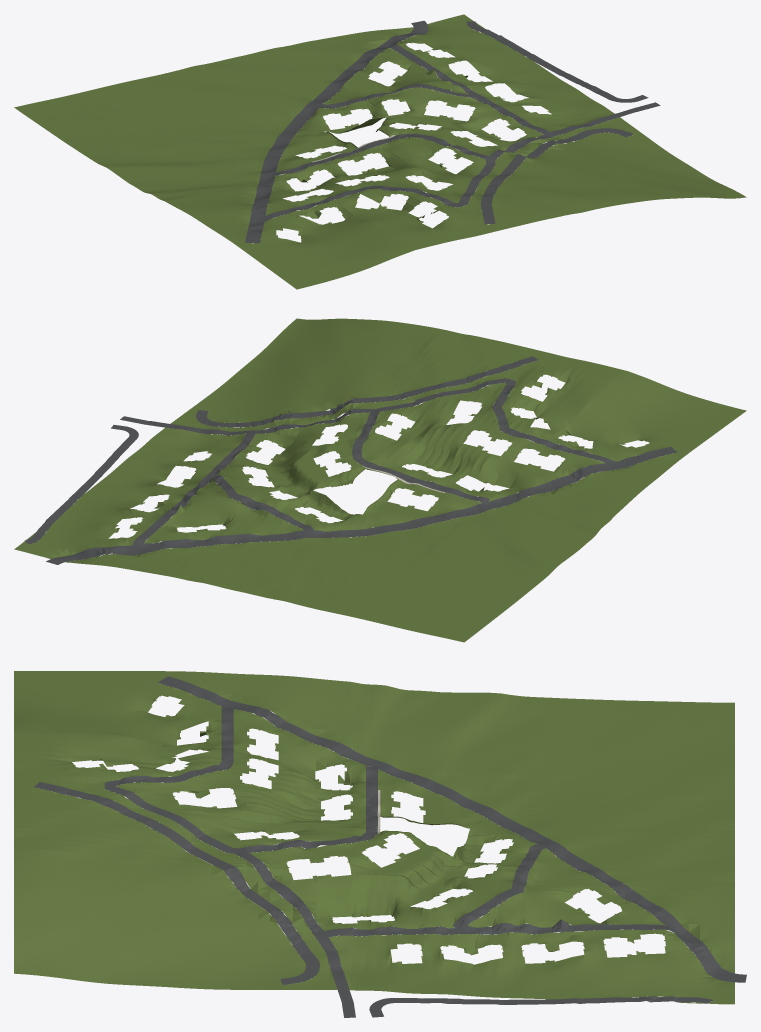
The model's file is CEVRE-YOL-opt-v2.glb.
3 renders of one model, top to bottom at view 1: azimuth 30°, elevation 25°; view 2: azimuth 150°, elevation 25°; view 3: azimuth 270°, elevation 25°, orthographic. The views are drawn at different scales.
Visible parts, largest first — view 1: grass (1), asphalt; view 2: grass (1), asphalt; view 3: grass (1), asphalt.
Boxes of the visible parts, left/top/right/bottom form: grass (1): left=14, top=14, right=746, bottom=289; asphalt: left=245, top=20, right=660, bottom=243; grass (1): left=14, top=318, right=746, bottom=642; asphalt: left=24, top=356, right=677, bottom=564; grass (1): left=14, top=671, right=734, bottom=1004; asphalt: left=34, top=676, right=746, bottom=1017.
Bounding box in the file's own units: 312 × 32.81 × 315.
Materials: 3 (3 with a texture image).
